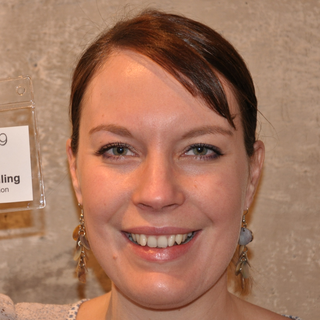eye: (93, 139, 141, 164), (176, 139, 226, 163)
